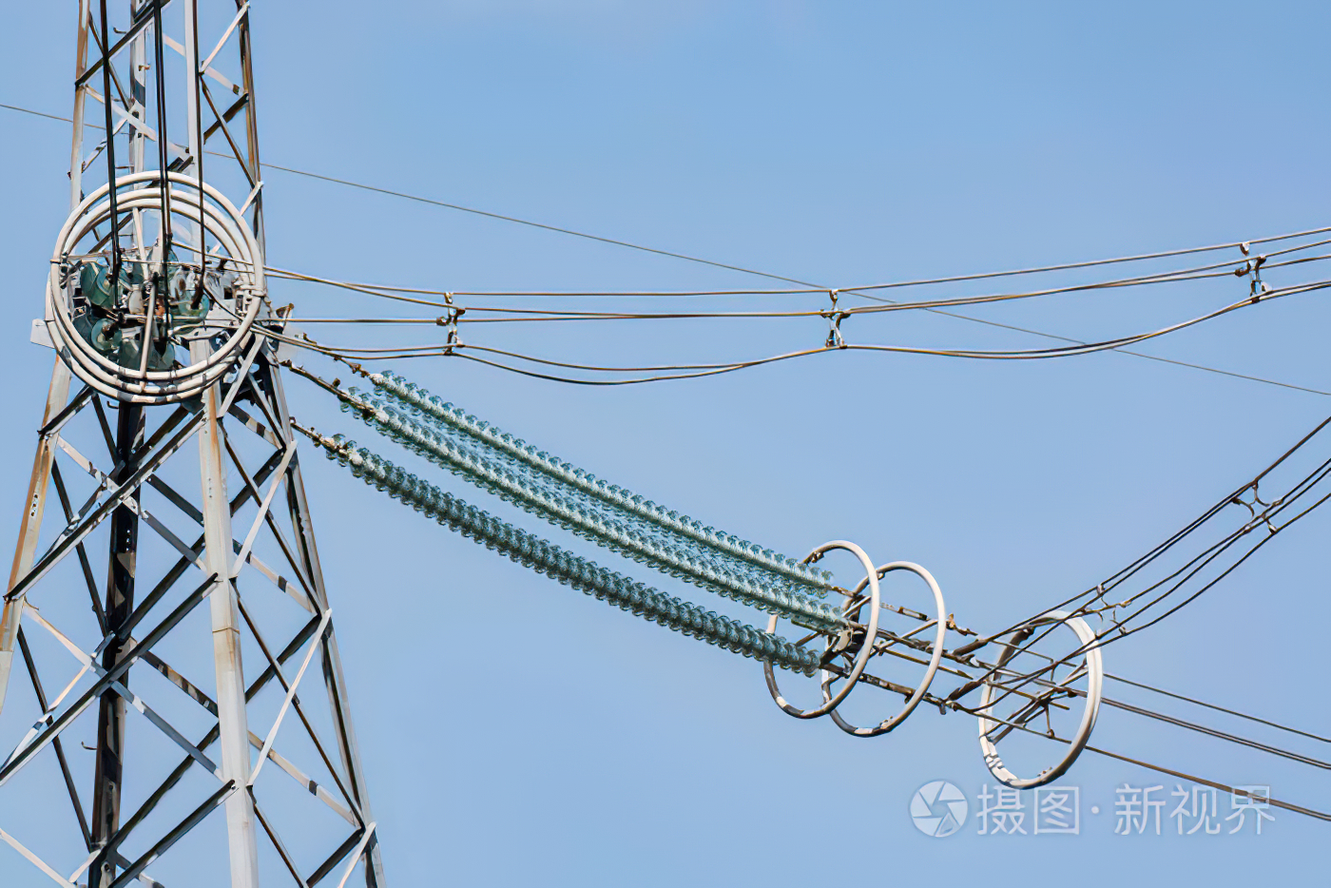insulator: (326, 371, 844, 678)
